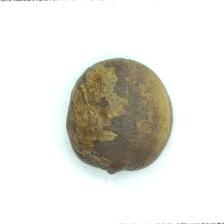NG: (68, 60, 123, 172)
